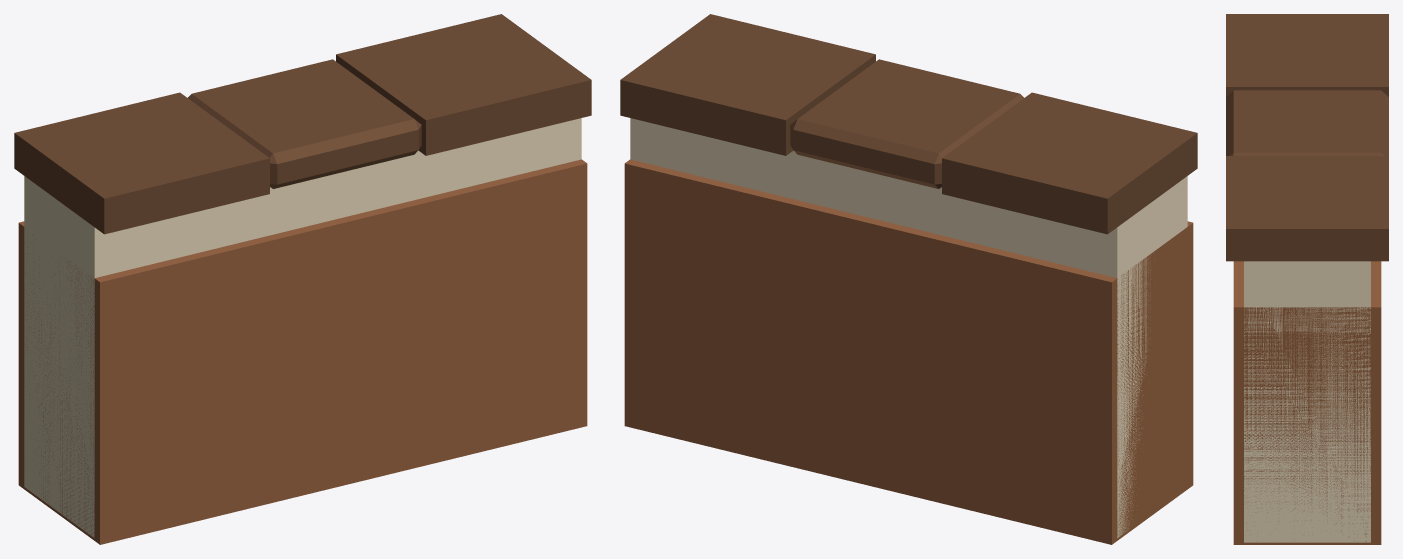
File: wall_low.glb
3 renders of one model, left to right at view 1: azimuth 30°, elevation 25°; view 2: azimuth 150°, elevation 25°; view 3: azimuth 270°, elevation 25°, orthographic. The views are drawn at different scales.
Parts seen in each view (by area): view 1: wall_low; view 2: wall_low; view 3: wall_low.
Boxes of the visible parts, bbox=[...] form: wall_low: bbox=[14, 14, 591, 544]; wall_low: bbox=[620, 14, 1197, 544]; wall_low: bbox=[1226, 14, 1388, 544].
Size of the model in its own units: 1 by 0.685 by 0.32.
